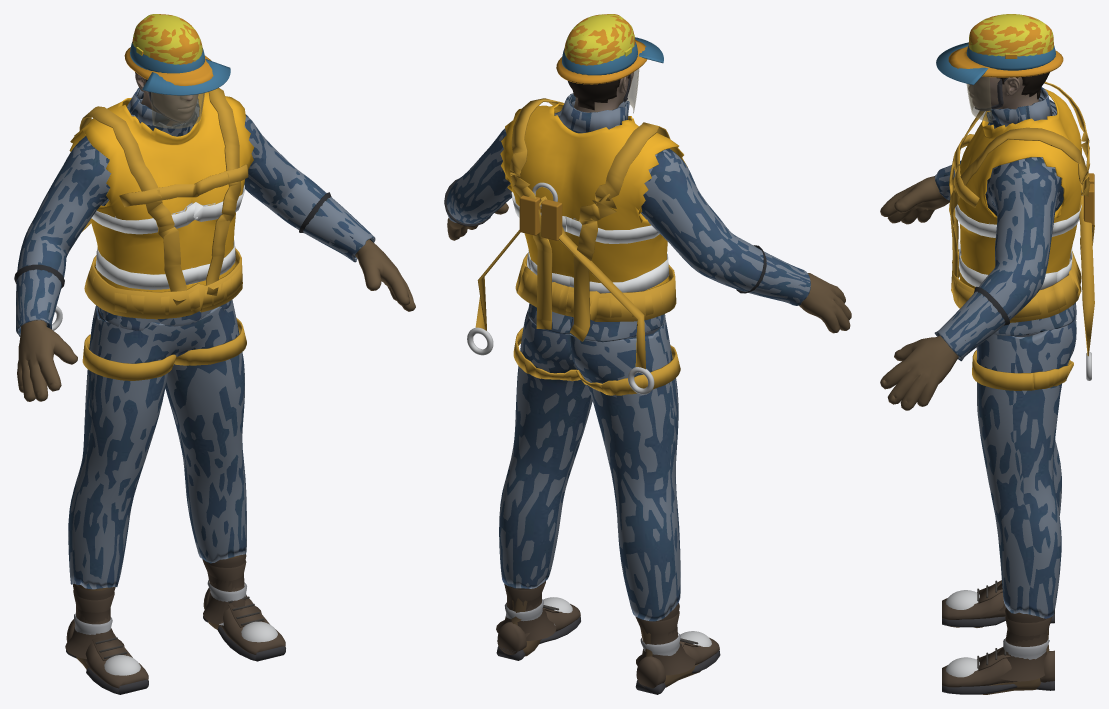
File: personagem.glb
3 views of the same model, side by side, from view 1: azimuth 30°, elevation 25°; view 2: azimuth 150°, elevation 25°; view 3: azimuth 270°, elevation 25° (orthographic).
Visible parts, largest first — view 1: epi_camisa_algodao, epi_vestimenta_fr, epi_colete_refletivo, epi_paraquedista_talabarte, epi_botina_biqueira, epi_luva_isolante_cobertura, epi_cinto_abdominal, epi_capacete_b, epi_botina_isolante, epi_bone, epi_capacete_a, epi_protetor_facial_arco (+2 smaller); view 2: epi_vestimenta_fr, epi_camisa_algodao, epi_colete_refletivo, epi_paraquedista_talabarte, epi_botina_biqueira, epi_luva_isolante_cobertura, epi_cinto_abdominal, epi_capacete_b, epi_capacete_a, epi_botina_isolante, epi_bone, cabelo (+2 smaller); view 3: epi_camisa_algodao, epi_vestimenta_fr, epi_colete_refletivo, epi_paraquedista_talabarte, epi_luva_isolante_cobertura, epi_botina_biqueira, epi_capacete_b, epi_bone, epi_capacete_a, epi_botina_isolante, corpo, epi_cinto_abdominal (+3 smaller).
Part boxes in pixels (x1,y1,x2,y2): epi_camisa_algodao: (16,89,375,589); epi_vestimenta_fr: (16,87,375,589); epi_colete_refletivo: (69,92,254,319); epi_paraquedista_talabarte: (52,88,248,380); epi_botina_biqueira: (66,559,285,694); epi_luva_isolante_cobertura: (14,192,415,669); epi_cinto_abdominal: (84,248,242,318); epi_capacete_b: (124,14,213,122); epi_botina_isolante: (65,554,261,659); epi_bone: (130,41,230,95); epi_capacete_a: (132,14,202,64); epi_protetor_facial_arco: (151,92,204,128); epi_vestimenta_fr: (446,94,810,621); epi_camisa_algodao: (447,93,810,620); epi_colete_refletivo: (500,103,687,293); epi_paraquedista_talabarte: (467,98,680,395); epi_botina_biqueira: (496,581,720,694); epi_luva_isolante_cobertura: (444,178,851,687); epi_cinto_abdominal: (515,253,676,321); epi_capacete_b: (556,14,647,102); epi_capacete_a: (565,14,634,64); epi_botina_isolante: (496,582,695,675); epi_bone: (562,37,663,75); cabelo: (568,75,629,110); epi_camisa_algodao: (934,89,1076,618); epi_vestimenta_fr: (934,87,1076,618); epi_colete_refletivo: (955,88,1081,289); epi_paraquedista_talabarte: (949,81,1094,390); epi_luva_isolante_cobertura: (880,176,1049,694); epi_botina_biqueira: (942,580,1054,694); epi_capacete_b: (948,14,1063,110); epi_bone: (936,42,1055,84); epi_capacete_a: (969,14,1053,56); epi_botina_isolante: (997,583,1048,681); corpo: (968,77,1038,109); epi_cinto_abdominal: (951,249,1081,322).
Size of the model in its own units: 1.17 by 1.83 by 0.5582.
Materials: 29 (4 with a texture image).
